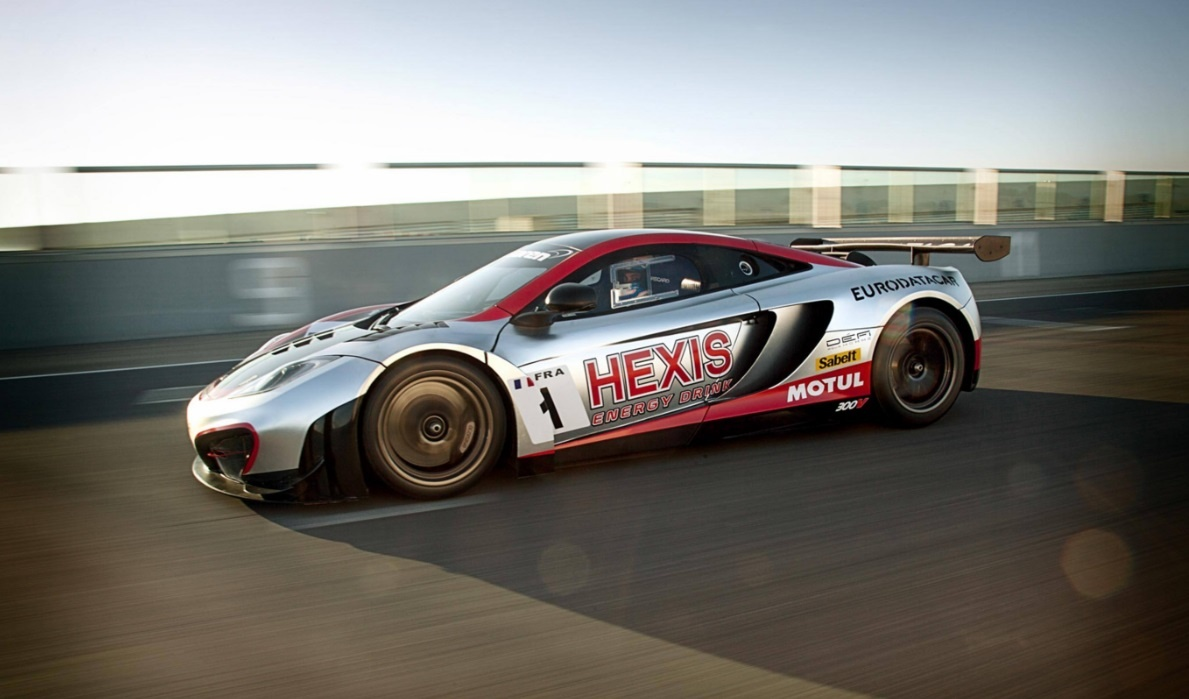racing car: (199, 206, 1016, 522)
